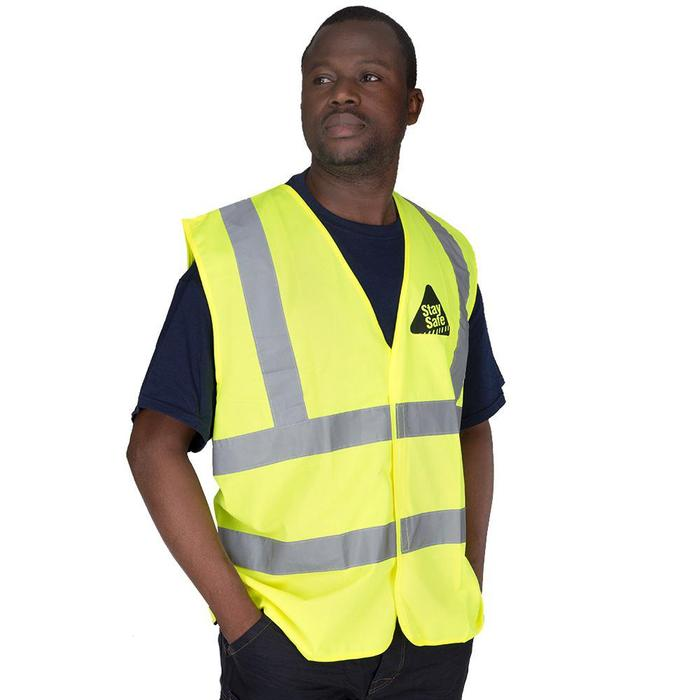noepi: (117, 8, 510, 700)
